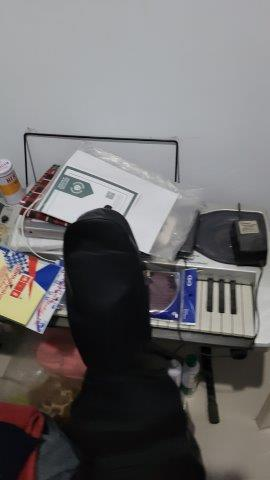kertas: (33, 145, 178, 258)
